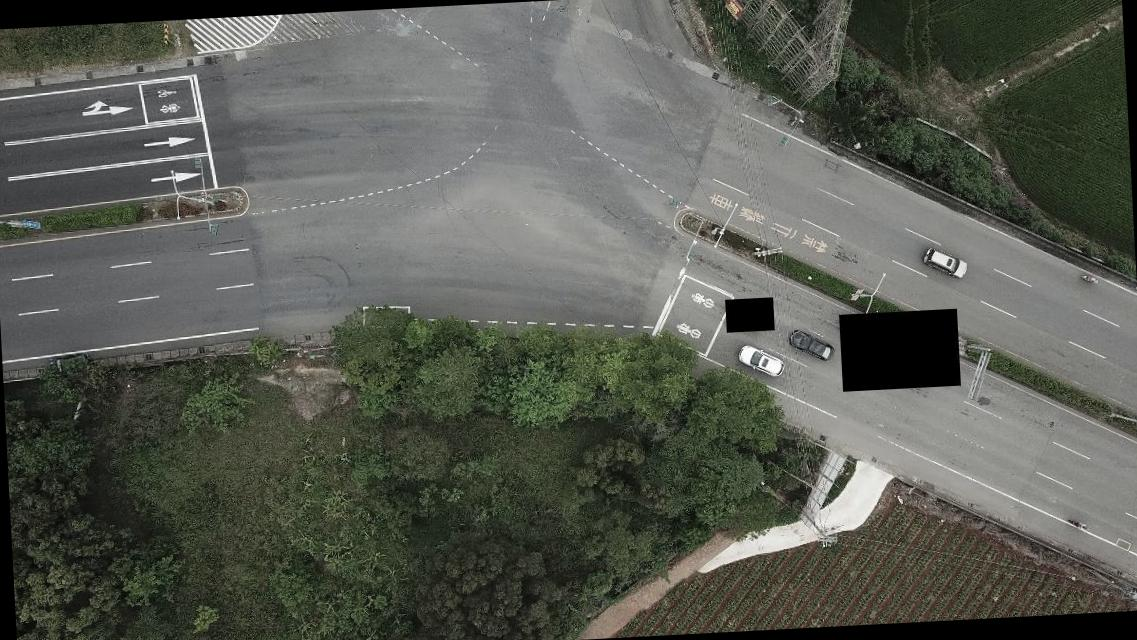vehicle: (736, 342, 786, 380), (786, 328, 834, 362), (923, 246, 970, 280)
